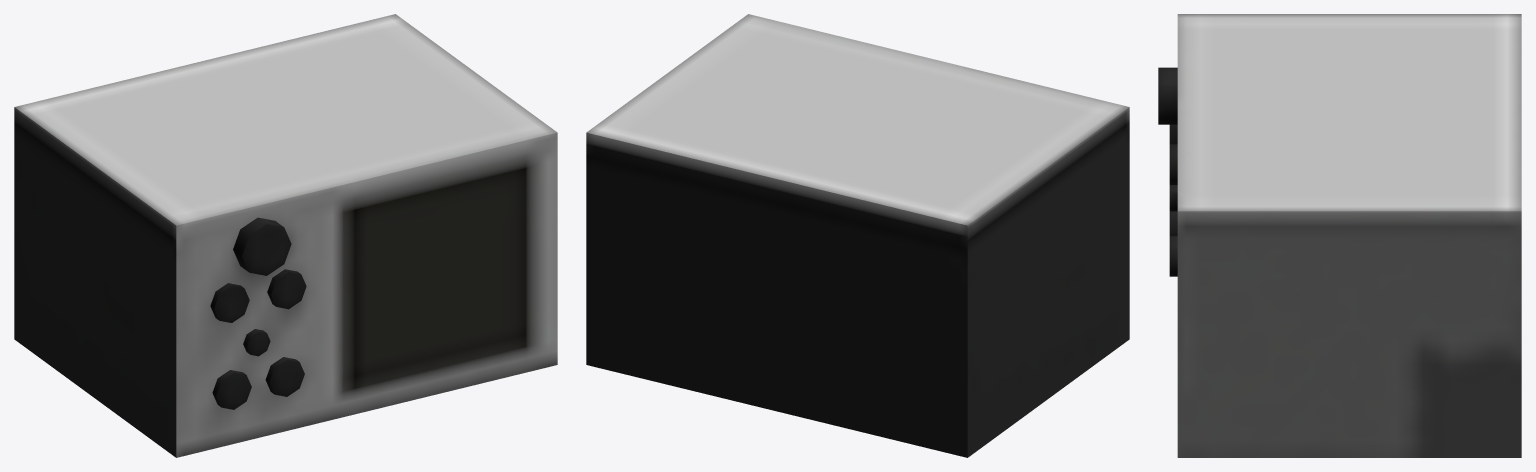
The model's file is Tx_props_medical_mini_microwave.fbx.
The picture shows the model from 3 angles, left to right: view 1: azimuth 30°, elevation 25°; view 2: azimuth 150°, elevation 25°; view 3: azimuth 270°, elevation 25°; orthographic projection. The views are drawn at different scales.
Parts seen in each view (by area): view 1: Tx_props_medical_mini_microwave; view 2: Tx_props_medical_mini_microwave; view 3: Tx_props_medical_mini_microwave.
Boxes of the visible parts, left/top/right/bottom form: Tx_props_medical_mini_microwave: left=14, top=14, right=557, bottom=457; Tx_props_medical_mini_microwave: left=586, top=14, right=1129, bottom=457; Tx_props_medical_mini_microwave: left=1158, top=14, right=1521, bottom=457.
Bounding box in the file's own units: 2.11 × 1.23 × 1.64.
